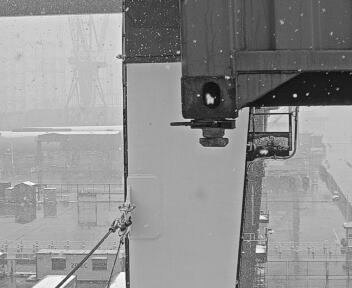twist_lock_1: (181, 162, 277, 232)
